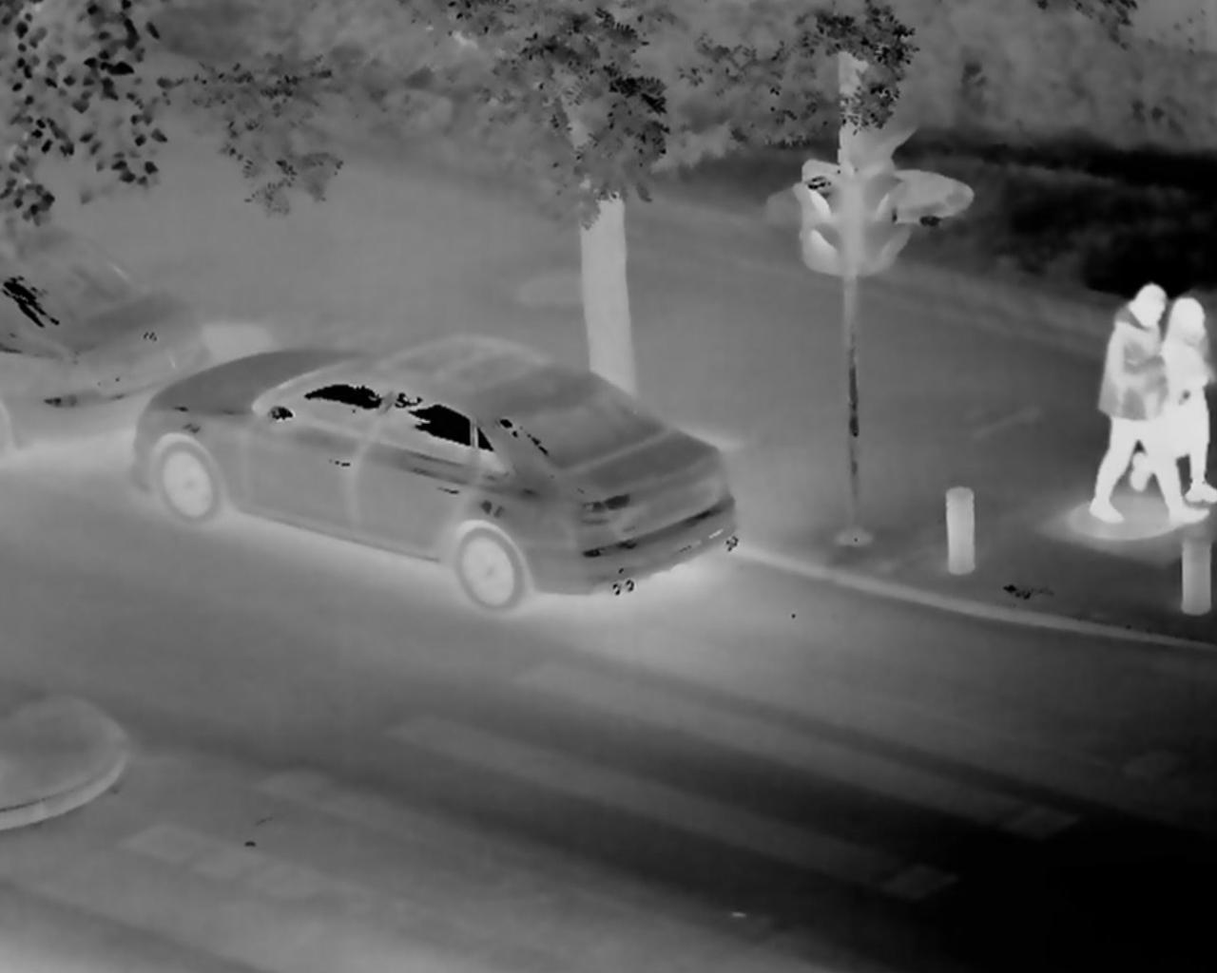person: (1086, 276, 1175, 522), (1165, 298, 1216, 505)
